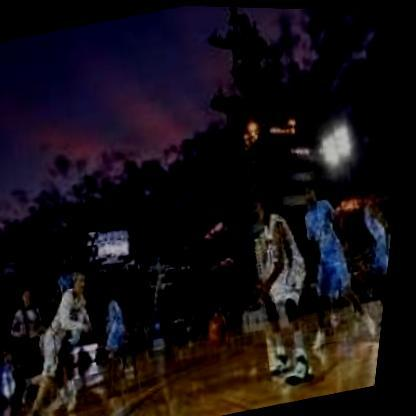basketball: (205, 303, 245, 351)
